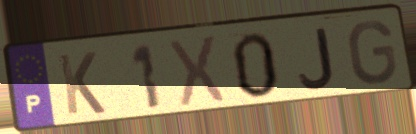0: (229, 30, 282, 100)
1: (130, 41, 165, 110)
G: (346, 18, 400, 87)
J: (296, 25, 337, 91)
K: (55, 49, 108, 117)
X: (167, 32, 228, 109)
